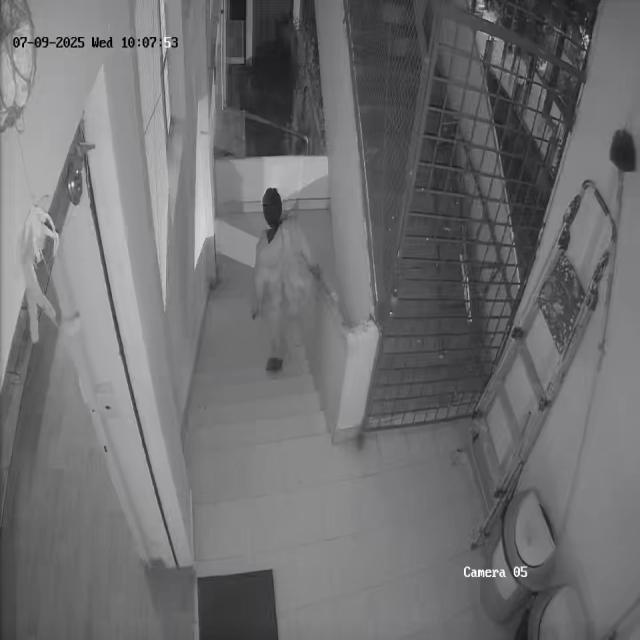person: (246, 188, 322, 376)
